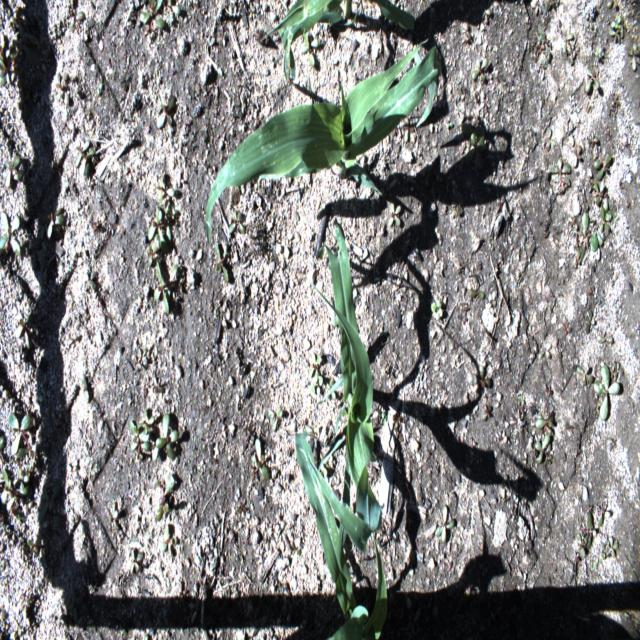crop: (205, 42, 443, 247), (299, 221, 383, 547), (295, 432, 388, 640), (260, 0, 416, 84)
weed: (12, 20, 40, 80), (593, 364, 620, 422), (146, 210, 181, 251), (154, 262, 181, 312), (8, 413, 37, 458), (152, 412, 178, 460), (0, 467, 28, 509), (547, 156, 571, 194), (0, 212, 21, 255), (433, 504, 454, 544), (129, 418, 149, 459), (39, 483, 62, 518), (74, 141, 96, 177), (253, 436, 270, 481), (140, 1, 167, 29), (464, 131, 484, 168), (532, 25, 551, 61), (46, 206, 67, 238), (301, 31, 320, 66), (157, 174, 176, 207), (578, 208, 589, 264), (214, 241, 228, 283), (157, 96, 174, 128), (535, 432, 552, 464), (593, 153, 611, 182), (6, 156, 21, 189), (144, 234, 160, 264), (576, 532, 592, 561), (68, 6, 85, 32), (468, 274, 486, 298), (12, 469, 30, 493), (386, 200, 401, 228), (576, 363, 594, 385), (429, 297, 444, 323), (161, 526, 173, 558), (627, 40, 639, 72), (26, 531, 43, 553), (228, 210, 245, 232), (603, 535, 619, 558), (57, 70, 70, 98), (166, 0, 182, 22), (269, 406, 282, 433), (0, 58, 13, 85), (535, 410, 554, 428), (130, 550, 143, 576), (18, 89, 31, 115), (596, 501, 609, 527), (592, 223, 605, 249), (158, 480, 174, 501), (586, 66, 600, 90), (473, 59, 488, 81), (309, 352, 321, 379), (593, 541, 605, 568), (600, 208, 612, 234), (311, 372, 323, 397), (461, 124, 486, 136), (566, 42, 580, 63), (14, 66, 28, 86), (593, 181, 604, 206), (144, 408, 154, 435), (611, 15, 624, 35), (155, 504, 170, 521), (304, 422, 321, 437), (586, 514, 593, 550), (603, 191, 614, 212), (587, 131, 599, 150), (110, 501, 119, 525), (608, 25, 621, 41), (326, 378, 336, 398), (563, 34, 573, 54), (572, 145, 581, 167), (538, 344, 552, 358), (614, 360, 624, 377), (545, 126, 552, 150), (531, 0, 543, 14), (585, 311, 592, 334), (575, 222, 580, 254), (612, 93, 620, 111), (545, 1, 559, 11), (380, 409, 388, 425), (564, 423, 578, 432), (607, 364, 616, 378), (0, 34, 5, 54), (520, 392, 526, 407), (596, 337, 614, 342), (595, 46, 601, 60), (607, 0, 617, 7), (446, 120, 453, 129)
